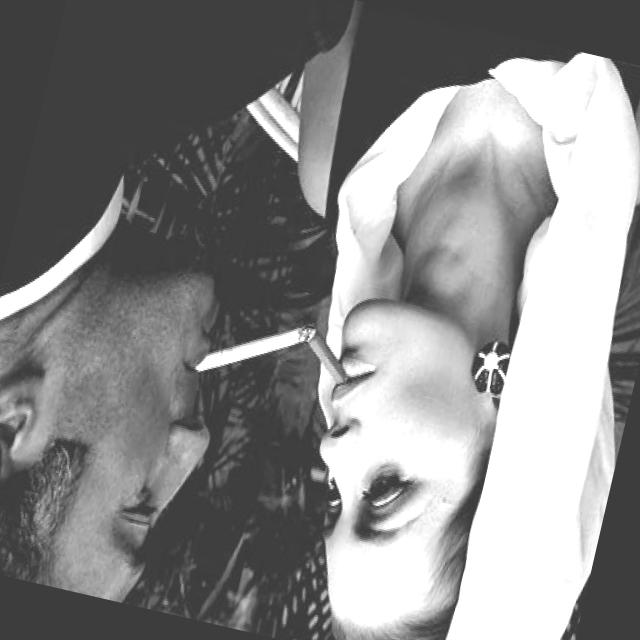cigarette: (186, 290, 309, 403), (293, 312, 360, 401)
